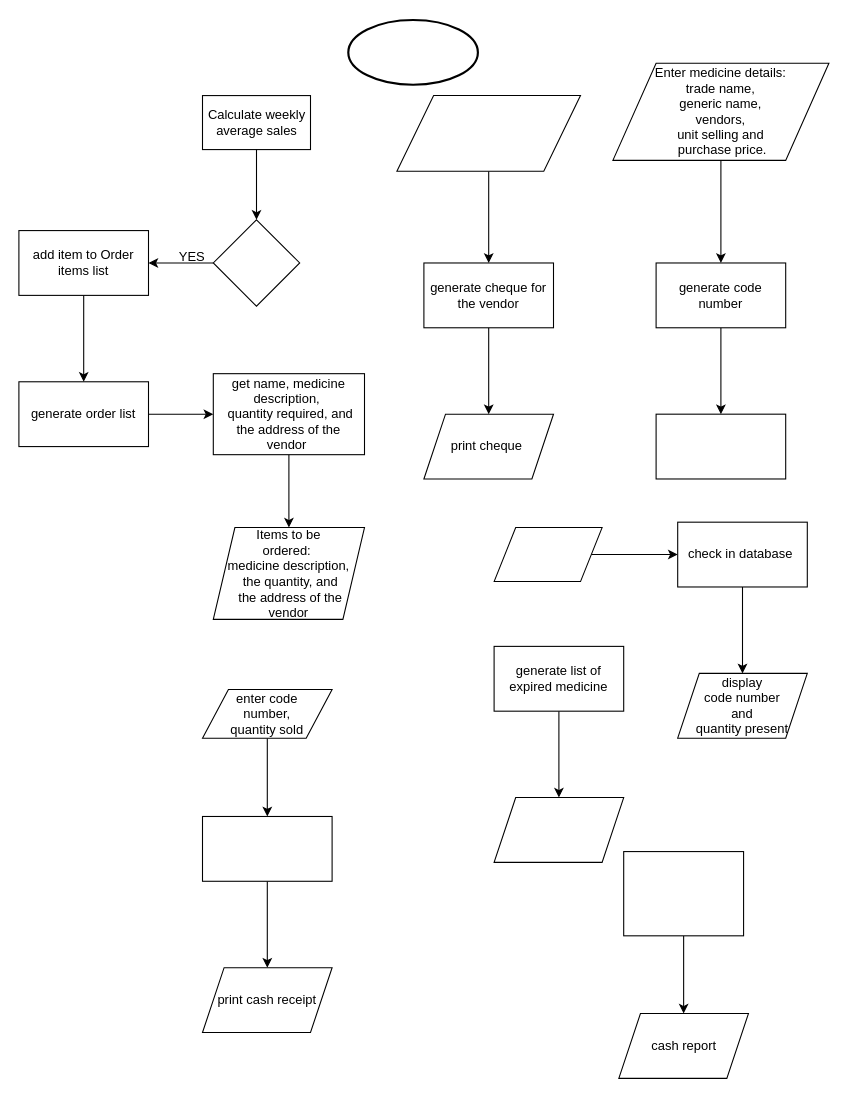
Some shapes in this 848 by 1097 pixel diagram are drawn without their labels. Here are the shapes that lost their labels. From the top down, the box of each, then its label:
(347, 18, 478, 85): Start
(396, 94, 580, 171): item code number, quantity, batch number, expiry date, and vendor number.
(212, 219, 300, 306): Below Threshold ?
(655, 413, 786, 479): add to medicine database
(493, 526, 602, 582): query about medicine
(201, 815, 332, 881): generate cash receipt
(493, 796, 624, 862): display medicine and vendor
(623, 850, 744, 936): generate revenue, profit and vendor-wise payments
